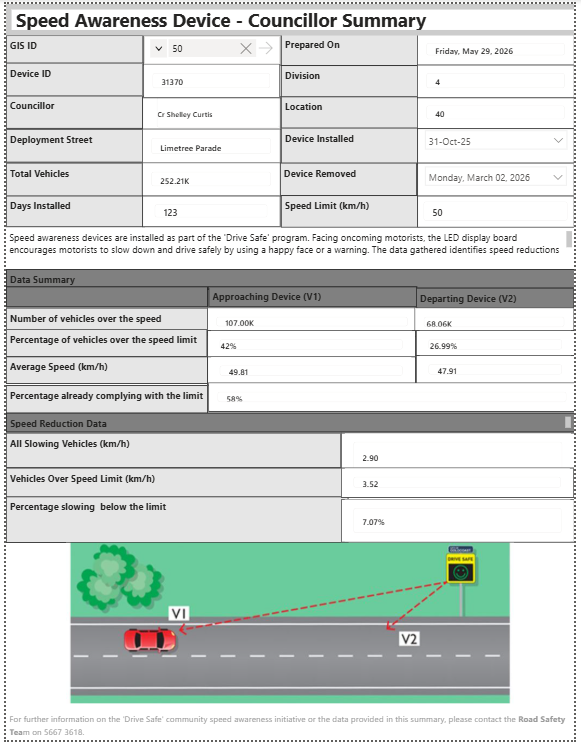

What the dashboard file says about the page in this screenshot:
{"tool":"powerbi","page":{"name":"Page 5","canvas":[816,1056],"ordinal":4},"visuals":[{"type":"textbox","box":[0,1011.5,816,44.8],"z":0},{"type":"textbox","box":[0,131.3,196.9,47.7],"z":1000},{"type":"textbox","box":[9.8,0,611.4,45.2],"z":2000},{"type":"textSlicer","fields":{"Values":["COUNCILLOR_SUMMARY.GIS_ID"]},"box":[197.3,44.8,197.3,43],"z":3000},{"type":"textbox","box":[0,44,196.9,41.6],"z":4000},{"type":"textbox","box":[393.8,42.8,196.9,45.2],"z":5000},{"type":"textbox","box":[393.8,88,196.9,46.5],"z":6000},{"type":"textbox","box":[393.8,132.6,196.9,46.5],"z":7000},{"type":"textbox","box":[0,179.2,197.1,48.2],"z":8000},{"type":"textbox","box":[393.8,177.3,199.3,52.6],"z":9000},{"type":"textbox","box":[392.5,227.4,196.9,47.7],"z":10000},{"type":"slicer","fields":{"Values":["COUNCILLOR_SUMMARY.DEVICE_INSTALLED"]},"box":[590.1,175.8,226,53.8],"z":11000},{"type":"textbox","box":[0,275.1,198.1,45.2],"z":13000},{"type":"textbox","box":[393.8,273.9,198.1,46.5],"z":14000},{"type":"cardVisual","fields":{"Data":["Sum(COUNCILLOR_SUMMARY.DAYS_INSTALLED)"]},"box":[195.7,275.1,198.1,45.2],"z":15000},{"type":"cardVisual","fields":{"Data":["Sum(COUNCILLOR_SUMMARY.SPEED_LIMIT_KMH)"]},"box":[590.1,274.4,226,46.6],"z":16000},{"type":"textbox","box":[0,84.7,196.8,47.8],"z":17000},{"type":"textbox","box":[0,227.4,195.7,48.2],"z":18000},{"type":"cardVisual","fields":{"Data":["Min(COUNCILLOR_SUMMARY.COUNCILLOR_NAME)"]},"box":[195.7,132.3,198.5,46.9],"z":19000},{"type":"cardVisual","fields":{"Data":["Min(COUNCILLOR_SUMMARY.DEPLOYMENT_STREET)"]},"box":[195.7,179.2,198.5,49.6],"z":20000},{"type":"cardVisual","fields":{"Data":["Min(COUNCILLOR_SUMMARY.LOCATION)"]},"box":[590.1,132.7,226,46.6],"z":21000},{"type":"cardVisual","fields":{"Data":["Sum(COUNCILLOR_SUMMARY.DIVISION_NUMBER)"]},"box":[590.1,86.1,226,48.4],"z":22000},{"type":"cardVisual","fields":{"Data":["Min(COUNCILLOR_SUMMARY.DEVICE_ID)"]},"box":[197,85.7,195.7,48.6],"z":23000},{"type":"cardVisual","fields":{"Data":["Sum(COUNCILLOR_SUMMARY.TOTAL_VEHICLES)"]},"box":[195.7,227.4,198.1,47.7],"z":24000},{"type":"cardVisual","fields":{"Data":["Min(COUNCILLOR_SUMMARY.PREPARED_ON)"]},"box":[590.1,43,226,44.8],"z":25000},{"type":"textbox","box":[0,320.4,816.9,45.2],"z":26000},{"type":"textbox","box":[0,380.3,816.9,29.3],"z":27000},{"type":"textbox","box":[0,406,289.8,29.3],"z":28000},{"type":"textbox","box":[0,436.6,289.8,31.8],"z":29000},{"type":"textbox","box":[0,465.9,288.6,40.4],"z":30000},{"type":"textbox","box":[0,506.3,289.8,39.1],"z":31000},{"type":"textbox","box":[0,546.6,289.8,41.6],"z":32000},{"type":"textbox","box":[0,587,816.9,28.1],"z":33000},{"type":"textbox","box":[0,615.2,480.7,50.2],"z":34000},{"type":"textbox","box":[0,665.4,482.4,46.6],"z":35000},{"type":"textbox","box":[0,706.6,491.4,66.4],"z":36000},{"type":"textbox","box":[289.8,406.2,299.6,29.3],"z":37000},{"type":"textbox","box":[588.6,407.1,227.1,30],"z":38000},{"type":"cardVisual","fields":{"Data":["Sum(COUNCILLOR_SUMMARY.VEHICLES_OVER_SPEED_LIMIT_V1)"]},"box":[288.1,435.8,302,40.3],"z":39000},{"type":"cardVisual","fields":{"Data":["Sum(COUNCILLOR_SUMMARY.VEHICLES_OVER_SPEED_LIMIT_V2)"]},"box":[587.1,435.7,228.6,41.4],"z":40000},{"type":"cardVisual","fields":{"Data":["COUNCILLOR_SUMMARY.CS V1 Over %"]},"box":[289.5,468,299.3,41],"z":41000},{"type":"cardVisual","fields":{"Data":["COUNCILLOR_SUMMARY.CS V2 Over %"]},"box":[588.2,468.3,228.7,41.6],"z":42000},{"type":"cardVisual","fields":{"Data":["Sum(COUNCILLOR_SUMMARY.AVG_SPEED_V1_KMH)"]},"box":[289.5,505.5,299.3,41.6],"z":43000},{"type":"cardVisual","fields":{"Data":["Sum(COUNCILLOR_SUMMARY.AVG_SPEED_V2_KMH)"]},"box":[588.2,503.8,228.7,41.6],"z":44000},{"type":"cardVisual","fields":{"Data":["COUNCILLOR_SUMMARY.CS V1 Complying %"]},"box":[289.8,544.2,527,41.6],"z":45000},{"type":"cardVisual","fields":{"Data":["Sum(COUNCILLOR_SUMMARY.AVG_SPEED_REDUCTION_ALL_SLOWING_KMH)"]},"box":[480.6,615.1,336.3,69.7],"z":46000},{"type":"cardVisual","fields":{"Data":["Sum(COUNCILLOR_SUMMARY.AVG_SPEED_REDUCTION_OVER_LIMIT_KMH)"]},"box":[481.4,665.7,334.3,42.9],"z":47000},{"type":"cardVisual","fields":{"Data":["COUNCILLOR_SUMMARY.CS Slowing Below Limit %"]},"box":[480.7,710.2,335.4,62.8],"z":48000},{"type":"image","box":[0,772.9,815.7,230],"z":49000},{"type":"slicer","fields":{"Values":["COUNCILLOR_SUMMARY.DEVICE_REMOVED"]},"box":[590,227.3,225.5,48.2],"z":50000},{"type":"shape","box":[0,0,1280.3,45.2],"z":51000}]}

Visuals, with their boxes in screenshot pixels (x1, y1, x2, y2), scaled from the page's 816x1056 canvas onto the 581x744 screenshot:
textbox: pyautogui.locateOnScreen(0, 713, 580, 743)
textbox: pyautogui.locateOnScreen(0, 93, 140, 126)
textbox: pyautogui.locateOnScreen(7, 0, 442, 32)
textSlicer - COUNCILLOR_SUMMARY.GIS_ID: pyautogui.locateOnScreen(140, 32, 281, 62)
textbox: pyautogui.locateOnScreen(0, 31, 140, 60)
textbox: pyautogui.locateOnScreen(280, 30, 421, 62)
textbox: pyautogui.locateOnScreen(280, 62, 421, 95)
textbox: pyautogui.locateOnScreen(280, 93, 421, 126)
textbox: pyautogui.locateOnScreen(0, 126, 140, 160)
textbox: pyautogui.locateOnScreen(280, 125, 422, 162)
textbox: pyautogui.locateOnScreen(279, 160, 420, 194)
slicer - COUNCILLOR_SUMMARY.DEVICE_INSTALLED: pyautogui.locateOnScreen(420, 124, 580, 162)
textbox: pyautogui.locateOnScreen(0, 194, 141, 226)
textbox: pyautogui.locateOnScreen(280, 193, 421, 226)
cardVisual - Sum(COUNCILLOR_SUMMARY.DAYS_INSTALLED): pyautogui.locateOnScreen(139, 194, 280, 226)
cardVisual - Sum(COUNCILLOR_SUMMARY.SPEED_LIMIT_KMH): pyautogui.locateOnScreen(420, 193, 580, 226)
textbox: pyautogui.locateOnScreen(0, 60, 140, 93)
textbox: pyautogui.locateOnScreen(0, 160, 139, 194)
cardVisual - Min(COUNCILLOR_SUMMARY.COUNCILLOR_NAME): pyautogui.locateOnScreen(139, 93, 281, 126)
cardVisual - Min(COUNCILLOR_SUMMARY.DEPLOYMENT_STREET): pyautogui.locateOnScreen(139, 126, 281, 161)
cardVisual - Min(COUNCILLOR_SUMMARY.LOCATION): pyautogui.locateOnScreen(420, 93, 580, 126)
cardVisual - Sum(COUNCILLOR_SUMMARY.DIVISION_NUMBER): pyautogui.locateOnScreen(420, 61, 580, 95)
cardVisual - Min(COUNCILLOR_SUMMARY.DEVICE_ID): pyautogui.locateOnScreen(140, 60, 280, 95)
cardVisual - Sum(COUNCILLOR_SUMMARY.TOTAL_VEHICLES): pyautogui.locateOnScreen(139, 160, 280, 194)
cardVisual - Min(COUNCILLOR_SUMMARY.PREPARED_ON): pyautogui.locateOnScreen(420, 30, 580, 62)
textbox: pyautogui.locateOnScreen(0, 226, 580, 258)
textbox: pyautogui.locateOnScreen(0, 268, 580, 289)
textbox: pyautogui.locateOnScreen(0, 286, 206, 307)
textbox: pyautogui.locateOnScreen(0, 308, 206, 330)
textbox: pyautogui.locateOnScreen(0, 328, 205, 357)
textbox: pyautogui.locateOnScreen(0, 357, 206, 384)
textbox: pyautogui.locateOnScreen(0, 385, 206, 414)
textbox: pyautogui.locateOnScreen(0, 414, 580, 433)
textbox: pyautogui.locateOnScreen(0, 433, 342, 469)
textbox: pyautogui.locateOnScreen(0, 469, 343, 502)
textbox: pyautogui.locateOnScreen(0, 498, 350, 545)
textbox: pyautogui.locateOnScreen(206, 286, 420, 307)
textbox: pyautogui.locateOnScreen(419, 287, 580, 308)
cardVisual - Sum(COUNCILLOR_SUMMARY.VEHICLES_OVER_SPEED_LIMIT_V1): pyautogui.locateOnScreen(205, 307, 420, 335)
cardVisual - Sum(COUNCILLOR_SUMMARY.VEHICLES_OVER_SPEED_LIMIT_V2): pyautogui.locateOnScreen(418, 307, 580, 336)
cardVisual - COUNCILLOR_SUMMARY.CS V1 Over %: pyautogui.locateOnScreen(206, 330, 419, 359)
cardVisual - COUNCILLOR_SUMMARY.CS V2 Over %: pyautogui.locateOnScreen(419, 330, 580, 359)
cardVisual - Sum(COUNCILLOR_SUMMARY.AVG_SPEED_V1_KMH): pyautogui.locateOnScreen(206, 356, 419, 385)
cardVisual - Sum(COUNCILLOR_SUMMARY.AVG_SPEED_V2_KMH): pyautogui.locateOnScreen(419, 355, 580, 384)
cardVisual - COUNCILLOR_SUMMARY.CS V1 Complying %: pyautogui.locateOnScreen(206, 383, 580, 413)
cardVisual - Sum(COUNCILLOR_SUMMARY.AVG_SPEED_REDUCTION_ALL_SLOWING_KMH): pyautogui.locateOnScreen(342, 433, 580, 482)
cardVisual - Sum(COUNCILLOR_SUMMARY.AVG_SPEED_REDUCTION_OVER_LIMIT_KMH): pyautogui.locateOnScreen(343, 469, 580, 499)
cardVisual - COUNCILLOR_SUMMARY.CS Slowing Below Limit %: pyautogui.locateOnScreen(342, 500, 580, 545)
image: pyautogui.locateOnScreen(0, 545, 580, 707)
slicer - COUNCILLOR_SUMMARY.DEVICE_REMOVED: pyautogui.locateOnScreen(420, 160, 580, 194)
shape: pyautogui.locateOnScreen(0, 0, 580, 32)
